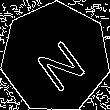N_NW: (25, 25, 86, 90)
